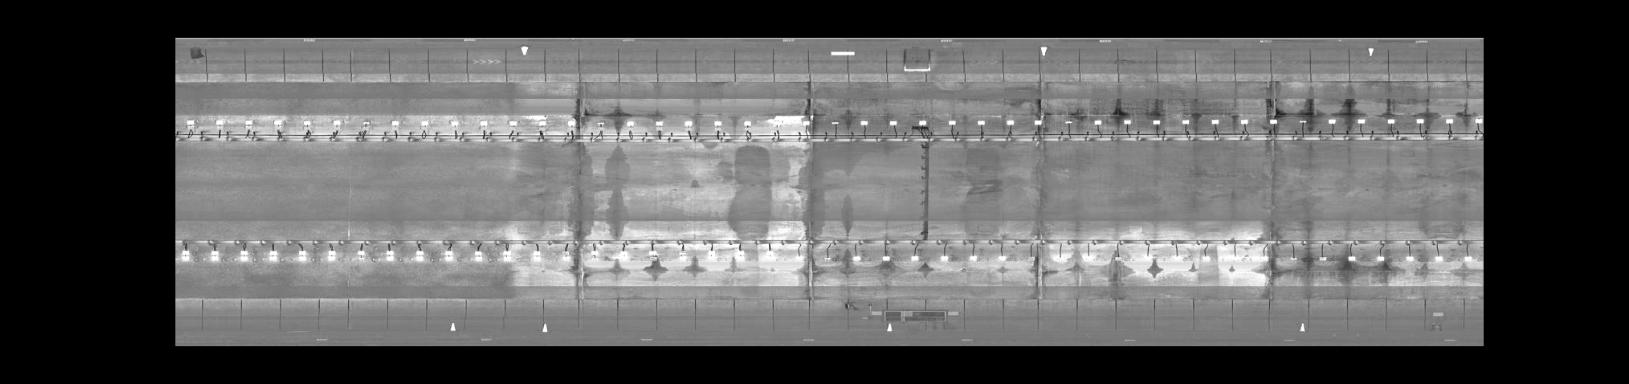light: (412, 247, 429, 265), (381, 249, 400, 264), (582, 249, 605, 260), (348, 248, 367, 262), (442, 248, 458, 263), (528, 249, 548, 260), (417, 115, 434, 128), (1459, 253, 1477, 265), (499, 249, 514, 263), (470, 250, 485, 264), (1022, 253, 1040, 265), (768, 117, 785, 129), (615, 249, 633, 260), (503, 118, 520, 130), (293, 249, 311, 260), (1148, 116, 1164, 129), (557, 251, 572, 264), (1314, 253, 1331, 265), (1196, 252, 1212, 264), (564, 117, 581, 129), (177, 249, 193, 260), (323, 249, 340, 260), (1109, 253, 1126, 264), (206, 250, 223, 260), (1401, 252, 1416, 265), (650, 117, 665, 130), (673, 249, 688, 262), (936, 253, 952, 265), (760, 250, 776, 262), (234, 249, 252, 258), (1371, 253, 1388, 264), (1080, 253, 1097, 264), (1050, 253, 1067, 264), (848, 253, 864, 264), (739, 118, 755, 129), (709, 118, 725, 129), (446, 118, 462, 129), (270, 118, 287, 129), (1207, 115, 1221, 128), (1353, 115, 1367, 127), (621, 117, 636, 129), (266, 249, 281, 260), (358, 117, 376, 127), (182, 117, 199, 127), (1342, 255, 1359, 265), (906, 254, 923, 264), (704, 248, 717, 260), (535, 118, 548, 131), (239, 118, 258, 127), (644, 249, 658, 260), (388, 117, 401, 129), (1236, 116, 1251, 127), (966, 253, 981, 264), (1031, 117, 1046, 127), (475, 117, 490, 127), (1286, 252, 1299, 264), (735, 249, 747, 260), (1265, 115, 1279, 126), (994, 253, 1008, 264), (879, 254, 892, 265), (680, 119, 694, 130), (1325, 116, 1339, 126), (1296, 116, 1310, 126), (1141, 251, 1155, 260), (884, 117, 899, 127), (299, 118, 314, 128), (1413, 116, 1425, 127), (1433, 253, 1445, 264), (944, 117, 960, 126), (594, 118, 607, 129), (1442, 116, 1456, 126), (1004, 117, 1017, 127), (330, 117, 344, 127), (212, 117, 225, 127), (1088, 118, 1104, 126), (1169, 253, 1185, 260), (1385, 116, 1397, 126), (1119, 118, 1134, 126), (791, 254, 805, 262), (797, 119, 811, 127), (1470, 116, 1483, 125), (1257, 253, 1270, 262), (1179, 118, 1192, 127), (974, 118, 988, 126), (820, 255, 833, 263), (916, 118, 930, 126), (858, 119, 872, 127), (1229, 253, 1241, 260), (1062, 118, 1074, 126), (829, 119, 842, 127)
